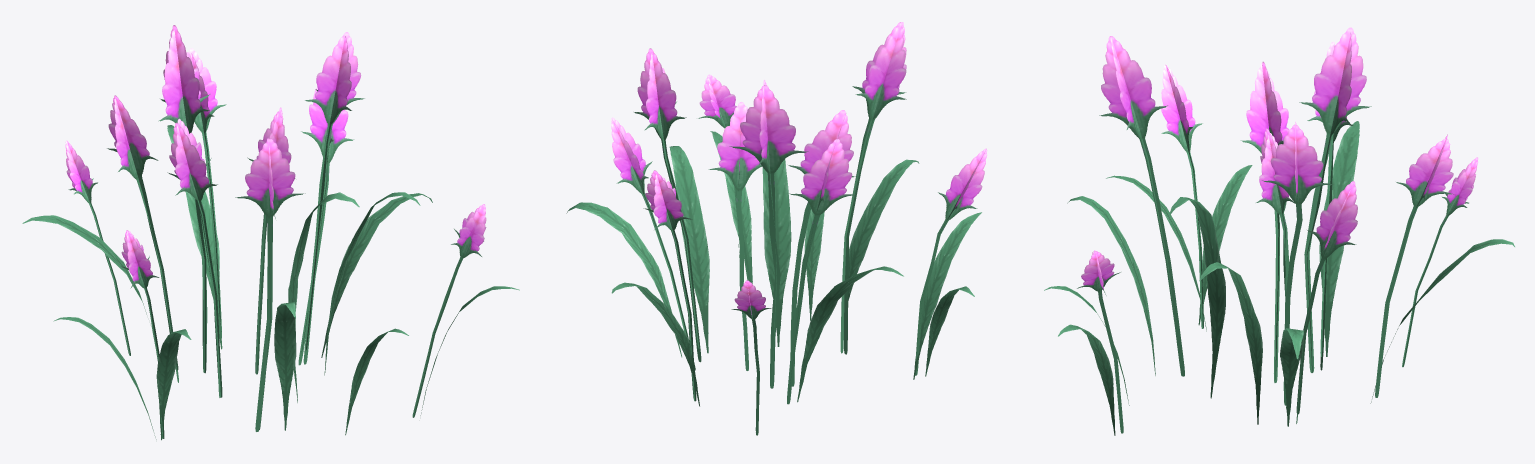
The model's file is SM_ENV_flower_ancient_06_02.fbx.
3 views of the same model, side by side, from view 1: azimuth 30°, elevation 25°; view 2: azimuth 150°, elevation 25°; view 3: azimuth 270°, elevation 25° (orthographic). The views are drawn at different scales.
Parts seen in each view (by area): view 1: SM_ENV_flower_ancient_06_02_LOD0; view 2: SM_ENV_flower_ancient_06_02_LOD0; view 3: SM_ENV_flower_ancient_06_02_LOD0.
Part boxes in pixels (x1=…): SM_ENV_flower_ancient_06_02_LOD0: x1=22, y1=25, x2=519, y2=440; SM_ENV_flower_ancient_06_02_LOD0: x1=566, y1=22, x2=987, y2=435; SM_ENV_flower_ancient_06_02_LOD0: x1=1044, y1=27, x2=1514, y2=435.
Size of the model in its own units: 50.05 by 41.58 by 50.21.
